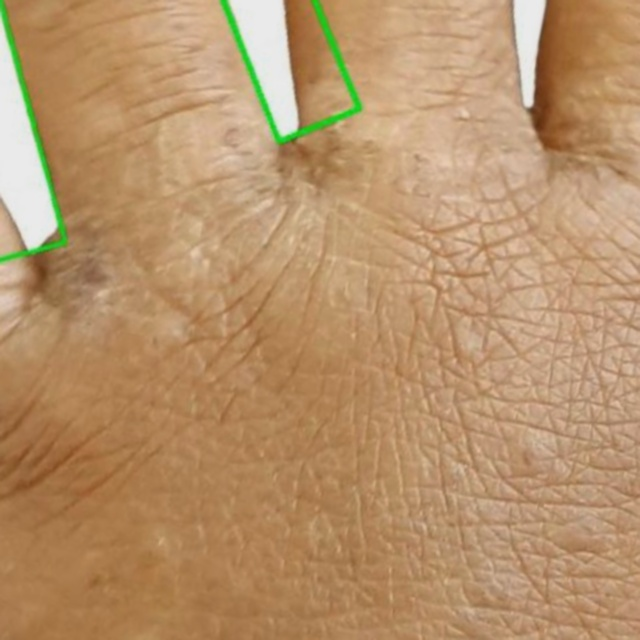Scabies: (0, 0, 65, 263)
